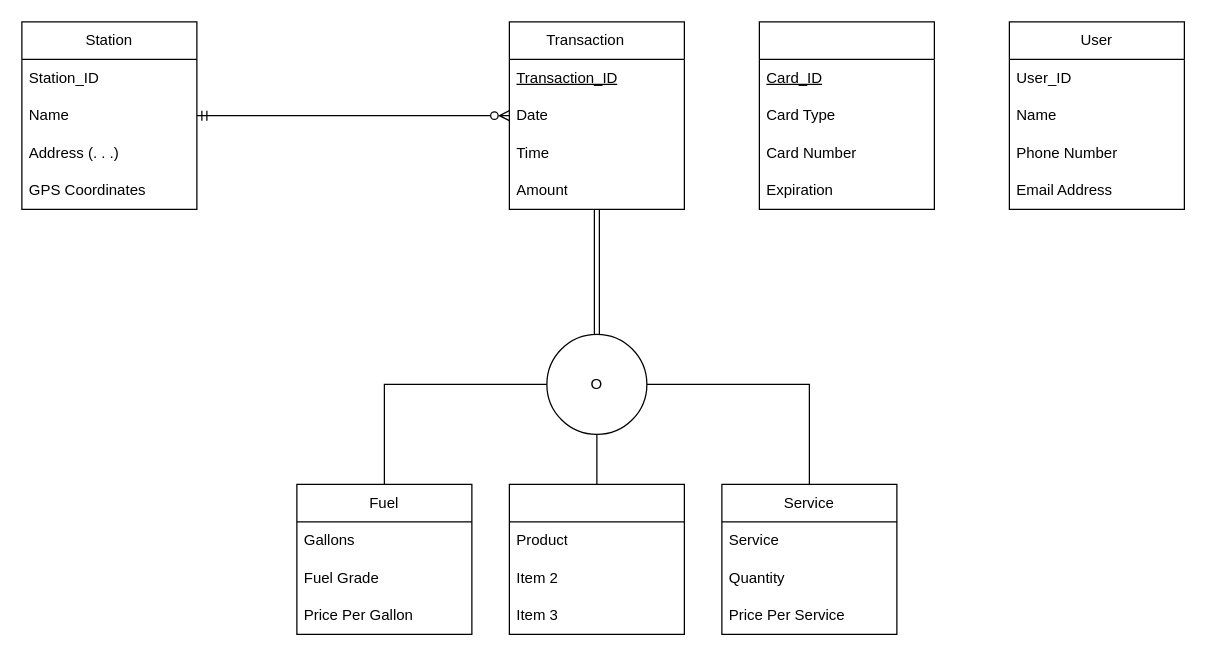
This 1206x656 diagram has some shape labels left out. The shapes that lost their labels are listed below. From the top down, each one's box as (x1, y1, x2, y2) in pixels, then its label:
(758, 21, 934, 209): Method Of Payment
(508, 483, 684, 634): Merchandise
